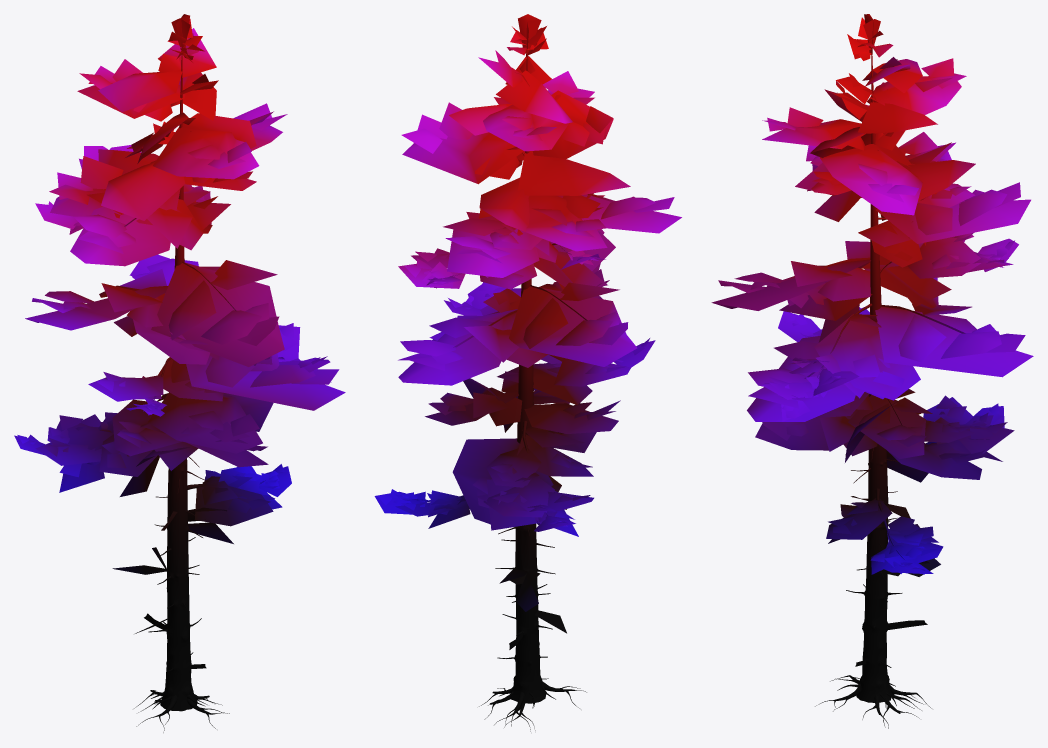
Rendered from Fir_06_Forest_advanced_cheap.FBX.
The picture shows the model from 3 angles, left to right: view 1: azimuth 30°, elevation 25°; view 2: azimuth 150°, elevation 25°; view 3: azimuth 270°, elevation 25°; orthographic projection.
Visible parts, largest first — view 1: Fir_06_leaves_LOD0, Fir_06_bark_LOD0; view 2: Fir_06_leaves_LOD0, Fir_06_bark_LOD0; view 3: Fir_06_leaves_LOD0, Fir_06_bark_LOD0.
Part boxes in pixels (x1,y1,x2,y2): Fir_06_leaves_LOD0: [14, 14, 345, 669]; Fir_06_bark_LOD0: [134, 54, 263, 732]; Fir_06_leaves_LOD0: [374, 14, 681, 649]; Fir_06_bark_LOD0: [414, 53, 586, 731]; Fir_06_leaves_LOD0: [711, 14, 1033, 666]; Fir_06_bark_LOD0: [815, 52, 931, 728].
Size of what is drawn, in the model's own units: 7900 by 20136 by 8409.
